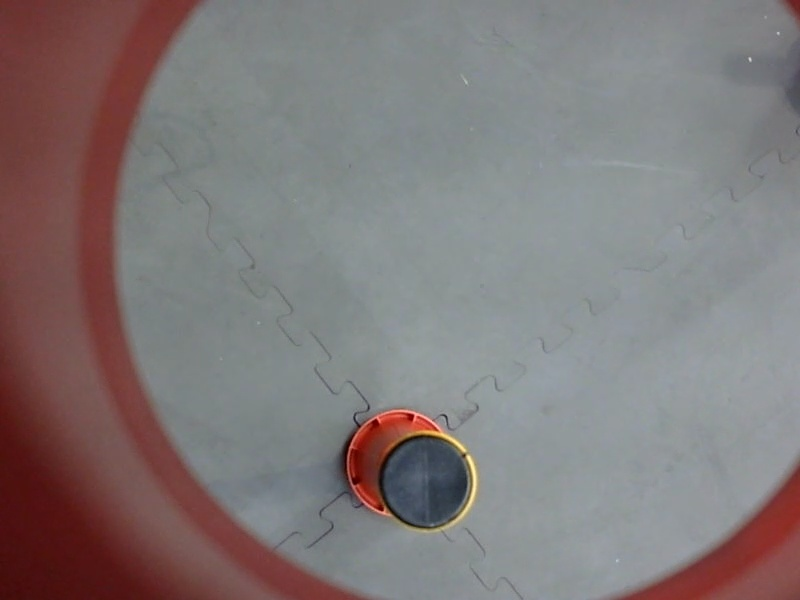tip: (374, 422, 482, 541)
